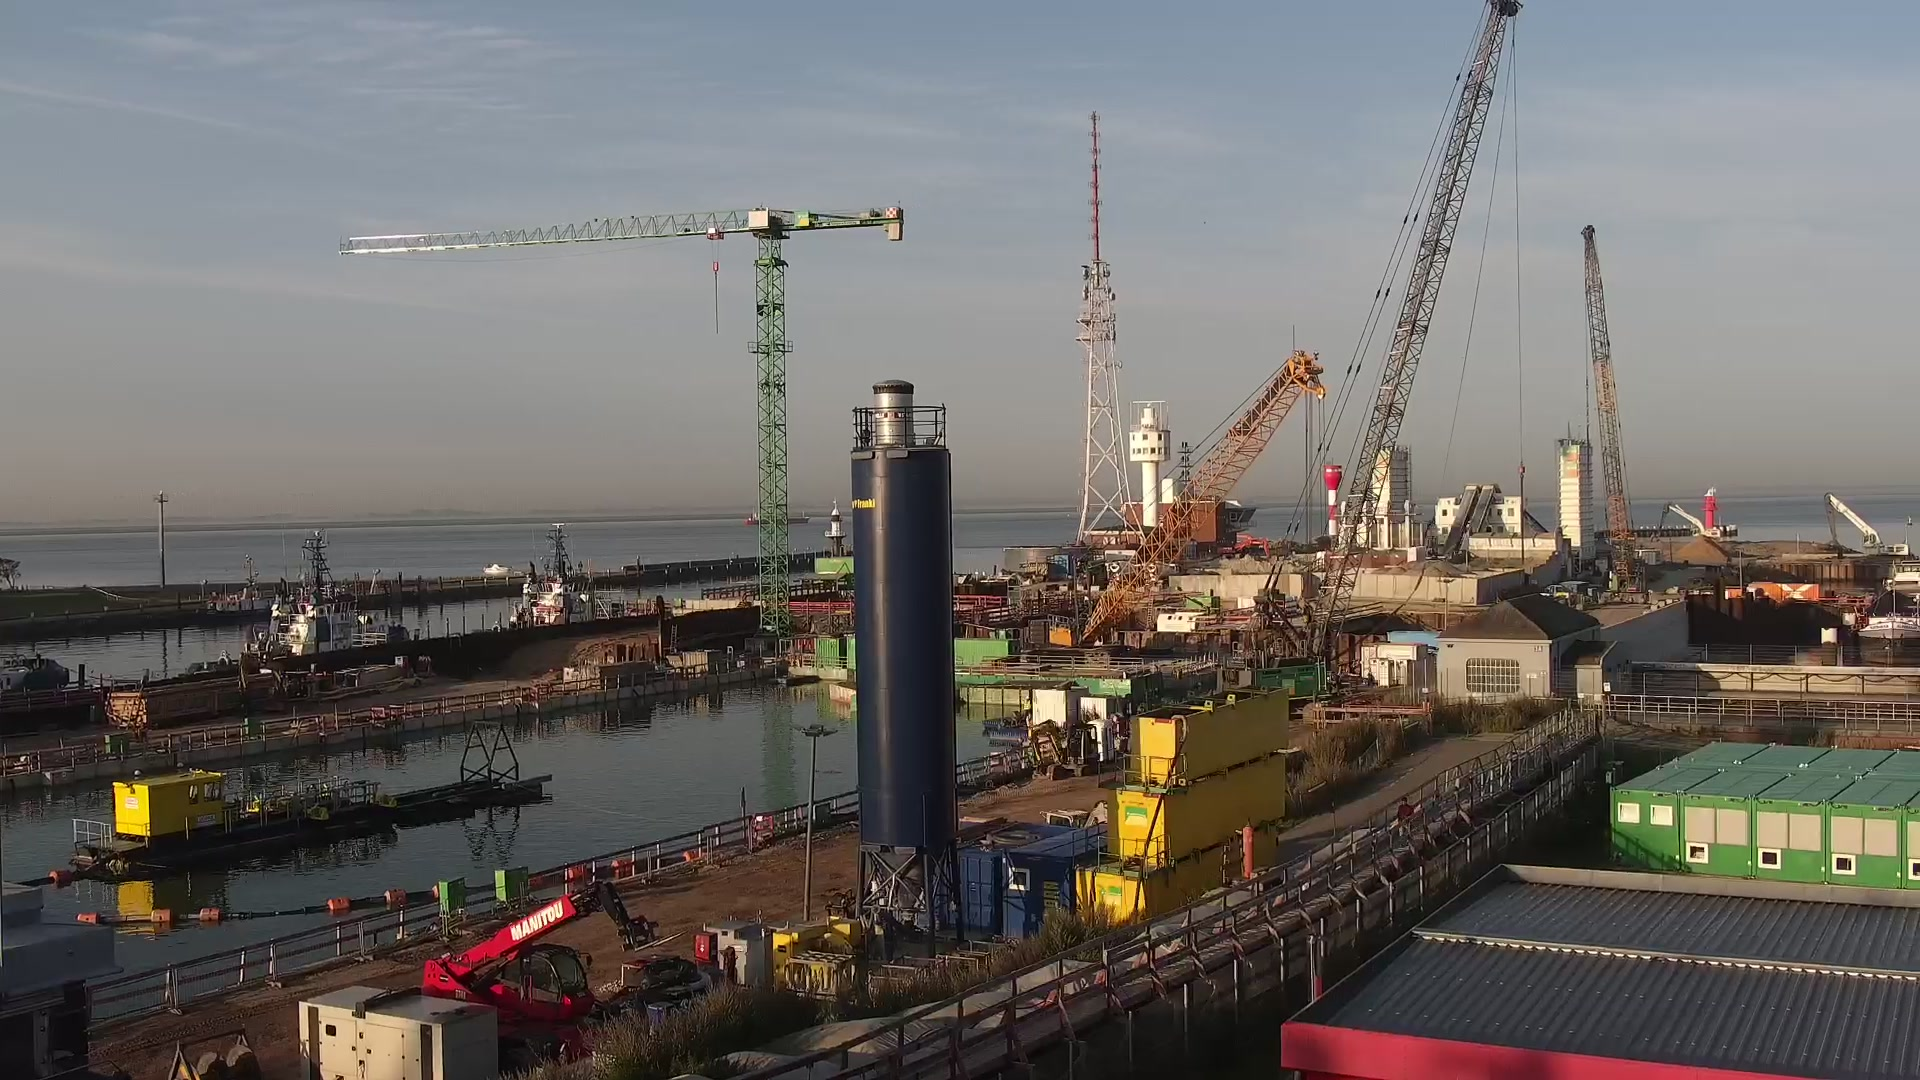human: (1396, 797, 1415, 843)
sea: (182, 526, 420, 676), (506, 519, 669, 629), (1854, 558, 1920, 640), (744, 506, 811, 524), (481, 562, 513, 575)
